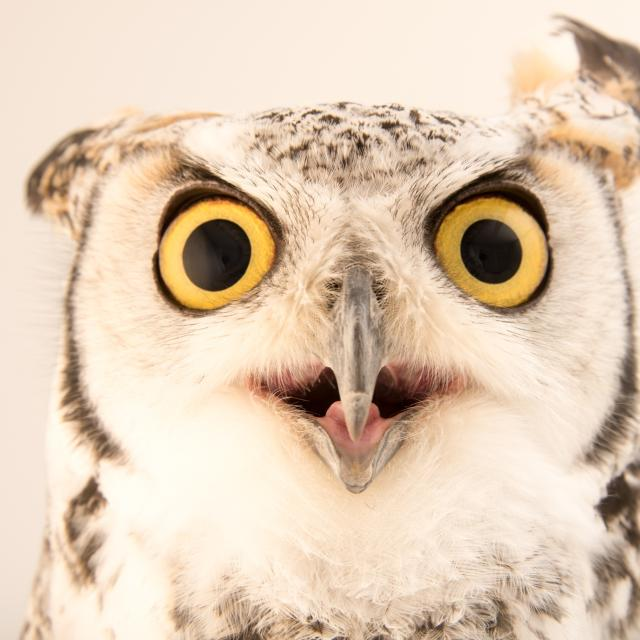Owl: (11, 17, 640, 640)
